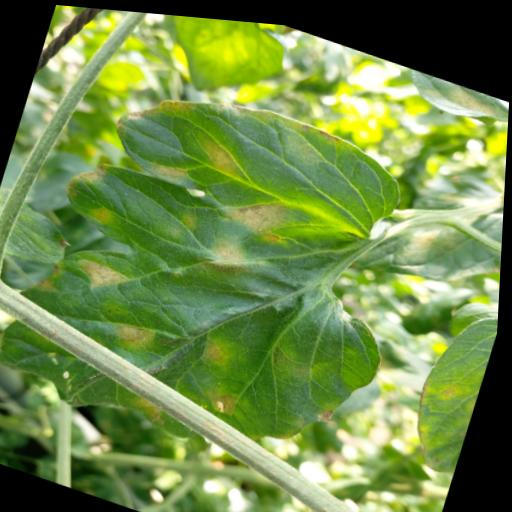Leaf Mold: (0, 41, 444, 494)
